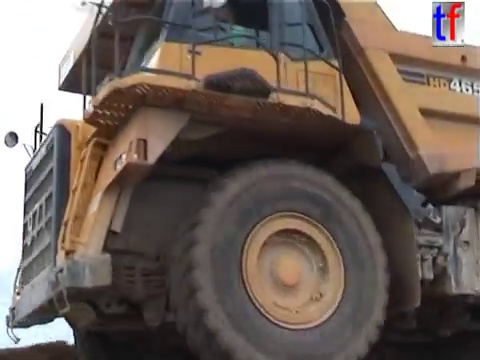truck: (2, 1, 480, 360)
